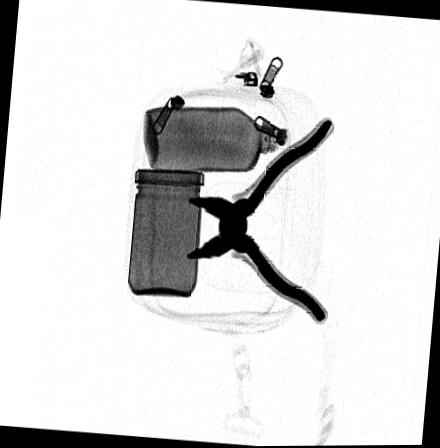Pliers: (184, 121, 335, 326)
